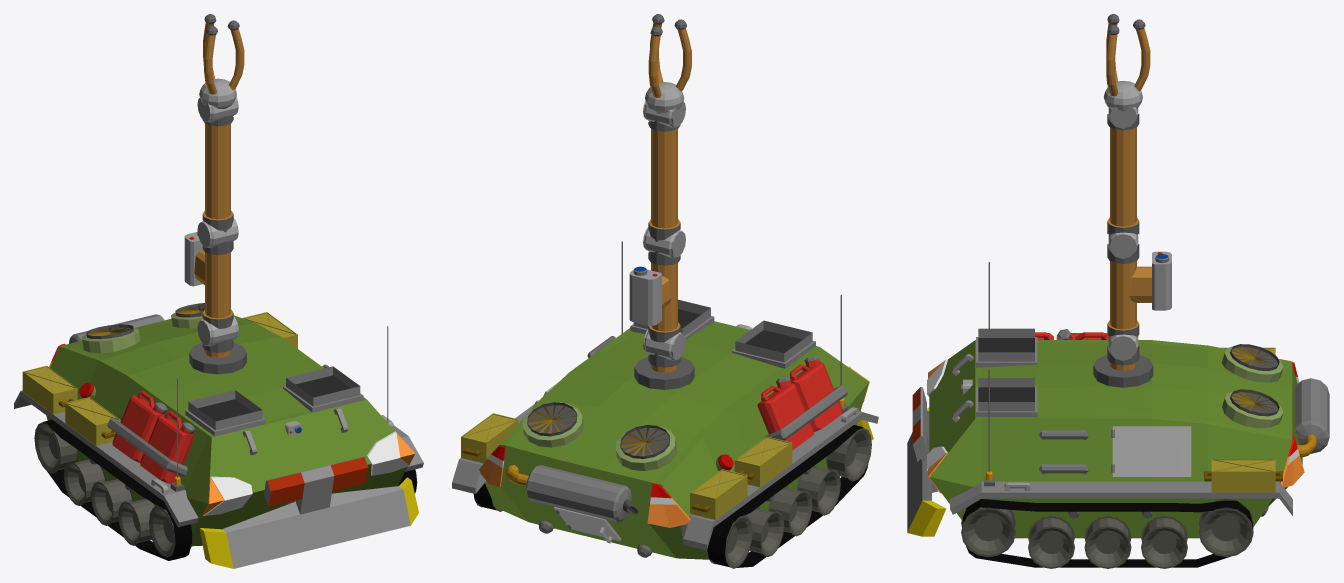
File: T1 unit.fbx
3 views of the same model, side by side, from view 1: azimuth 30°, elevation 25°; view 2: azimuth 150°, elevation 25°; view 3: azimuth 270°, elevation 25° (orthographic). The views are drawn at different scales.
Parts seen in each view (by area): view 1: Cube, Cube.007, Cylinder.001, Cube.026, Cube.027, Cube.023, Plane.002, Cube.011, Cube.013, Cube.030, Cube.002, Cube.037 (+11 smaller); view 2: Cube, Cylinder.001, Cube.002, Cube.003, Cube.027, Cube.023, Cube.026, Plane.002, Cube.011, Cube.037, Cube.030, Cube.013 (+11 smaller); view 3: Cube, Cylinder.002, Cube.023, Cube.026, Cube.006, Plane.002, Cube.002, Cube.007, Cube.011, Cube.013, Cube.003, Cube.031 (+7 smaller).
Part boxes in pixels (box(x1,y1,x2,y2)): Cube: box(46, 315, 407, 546); Cube.007: box(199, 456, 418, 568); Cylinder.001: box(34, 422, 192, 557); Cube.026: box(185, 366, 363, 436); Cube.027: box(22, 365, 120, 445); Cube.023: box(14, 390, 423, 527); Plane.002: box(43, 419, 416, 560); Cube.011: box(202, 116, 233, 232); Cube.013: box(194, 241, 233, 328); Cube.030: box(140, 411, 195, 483); Cube.002: box(81, 303, 204, 353); Cube.037: box(112, 391, 167, 462); Cube: box(485, 321, 868, 559); Cylinder.001: box(707, 428, 871, 568); Cube.002: box(522, 402, 677, 470); Cube.003: box(506, 465, 637, 522); Cube.027: box(690, 436, 792, 519); Cube.023: box(452, 404, 878, 550); Cube.026: box(630, 299, 815, 368); Plane.002: box(473, 425, 867, 567); Cube.011: box(648, 120, 680, 241); Cube.037: box(757, 377, 813, 449); Cube.030: box(789, 356, 842, 431); Cube.013: box(648, 251, 680, 342); Cube: box(929, 340, 1302, 538); Cylinder.002: box(961, 498, 1253, 568); Cube.023: box(950, 481, 1292, 515); Cube.026: box(976, 328, 1037, 416); Cube.006: box(1111, 426, 1191, 476); Plane.002: box(962, 499, 1253, 567); Cube.002: box(1221, 344, 1283, 428); Cube.007: box(907, 387, 946, 536); Cube.011: box(1107, 114, 1139, 234); Cube.013: box(1107, 244, 1151, 336); Cube.003: box(1290, 378, 1329, 457); Cube.031: box(1204, 459, 1282, 492).
Size of the model in its own units: 2.09 by 3.79 by 2.98.
